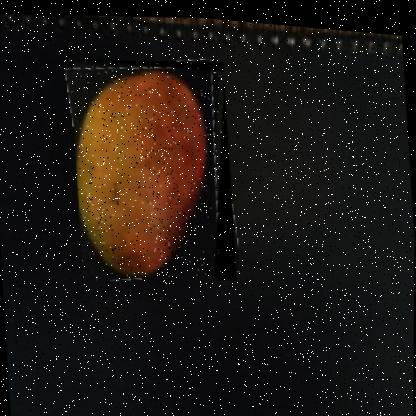mango: (68, 48, 240, 288)
